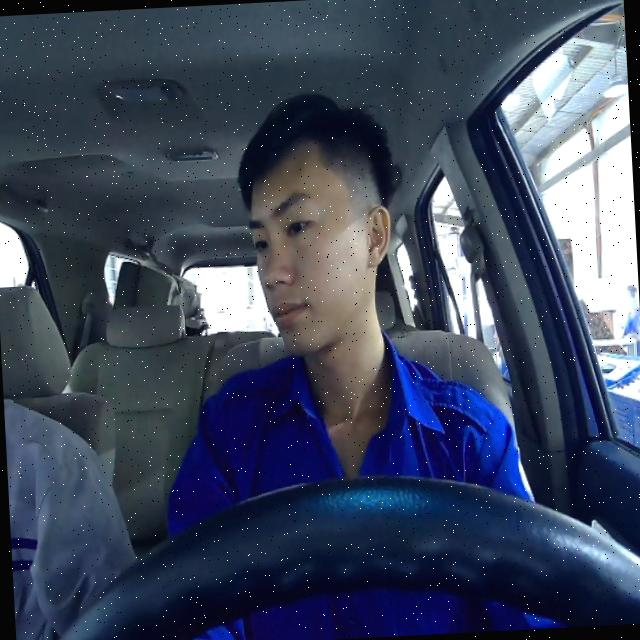seeing_left: (242, 130, 398, 362)
